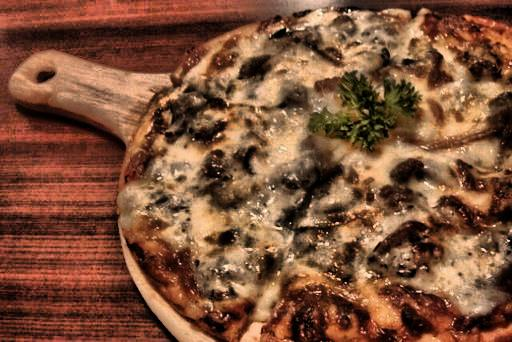pizza: (131, 5, 512, 342)
